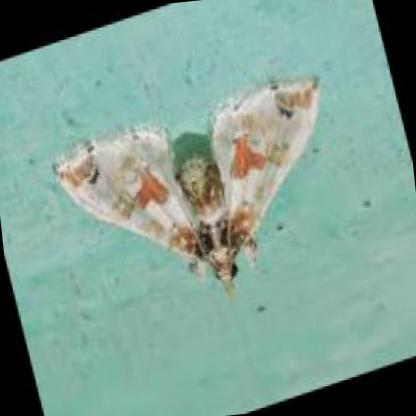leucinodes: (55, 82, 316, 292)
